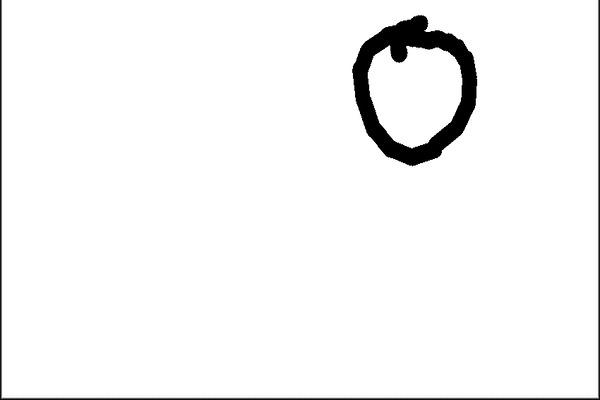O: (347, 10, 483, 162)
